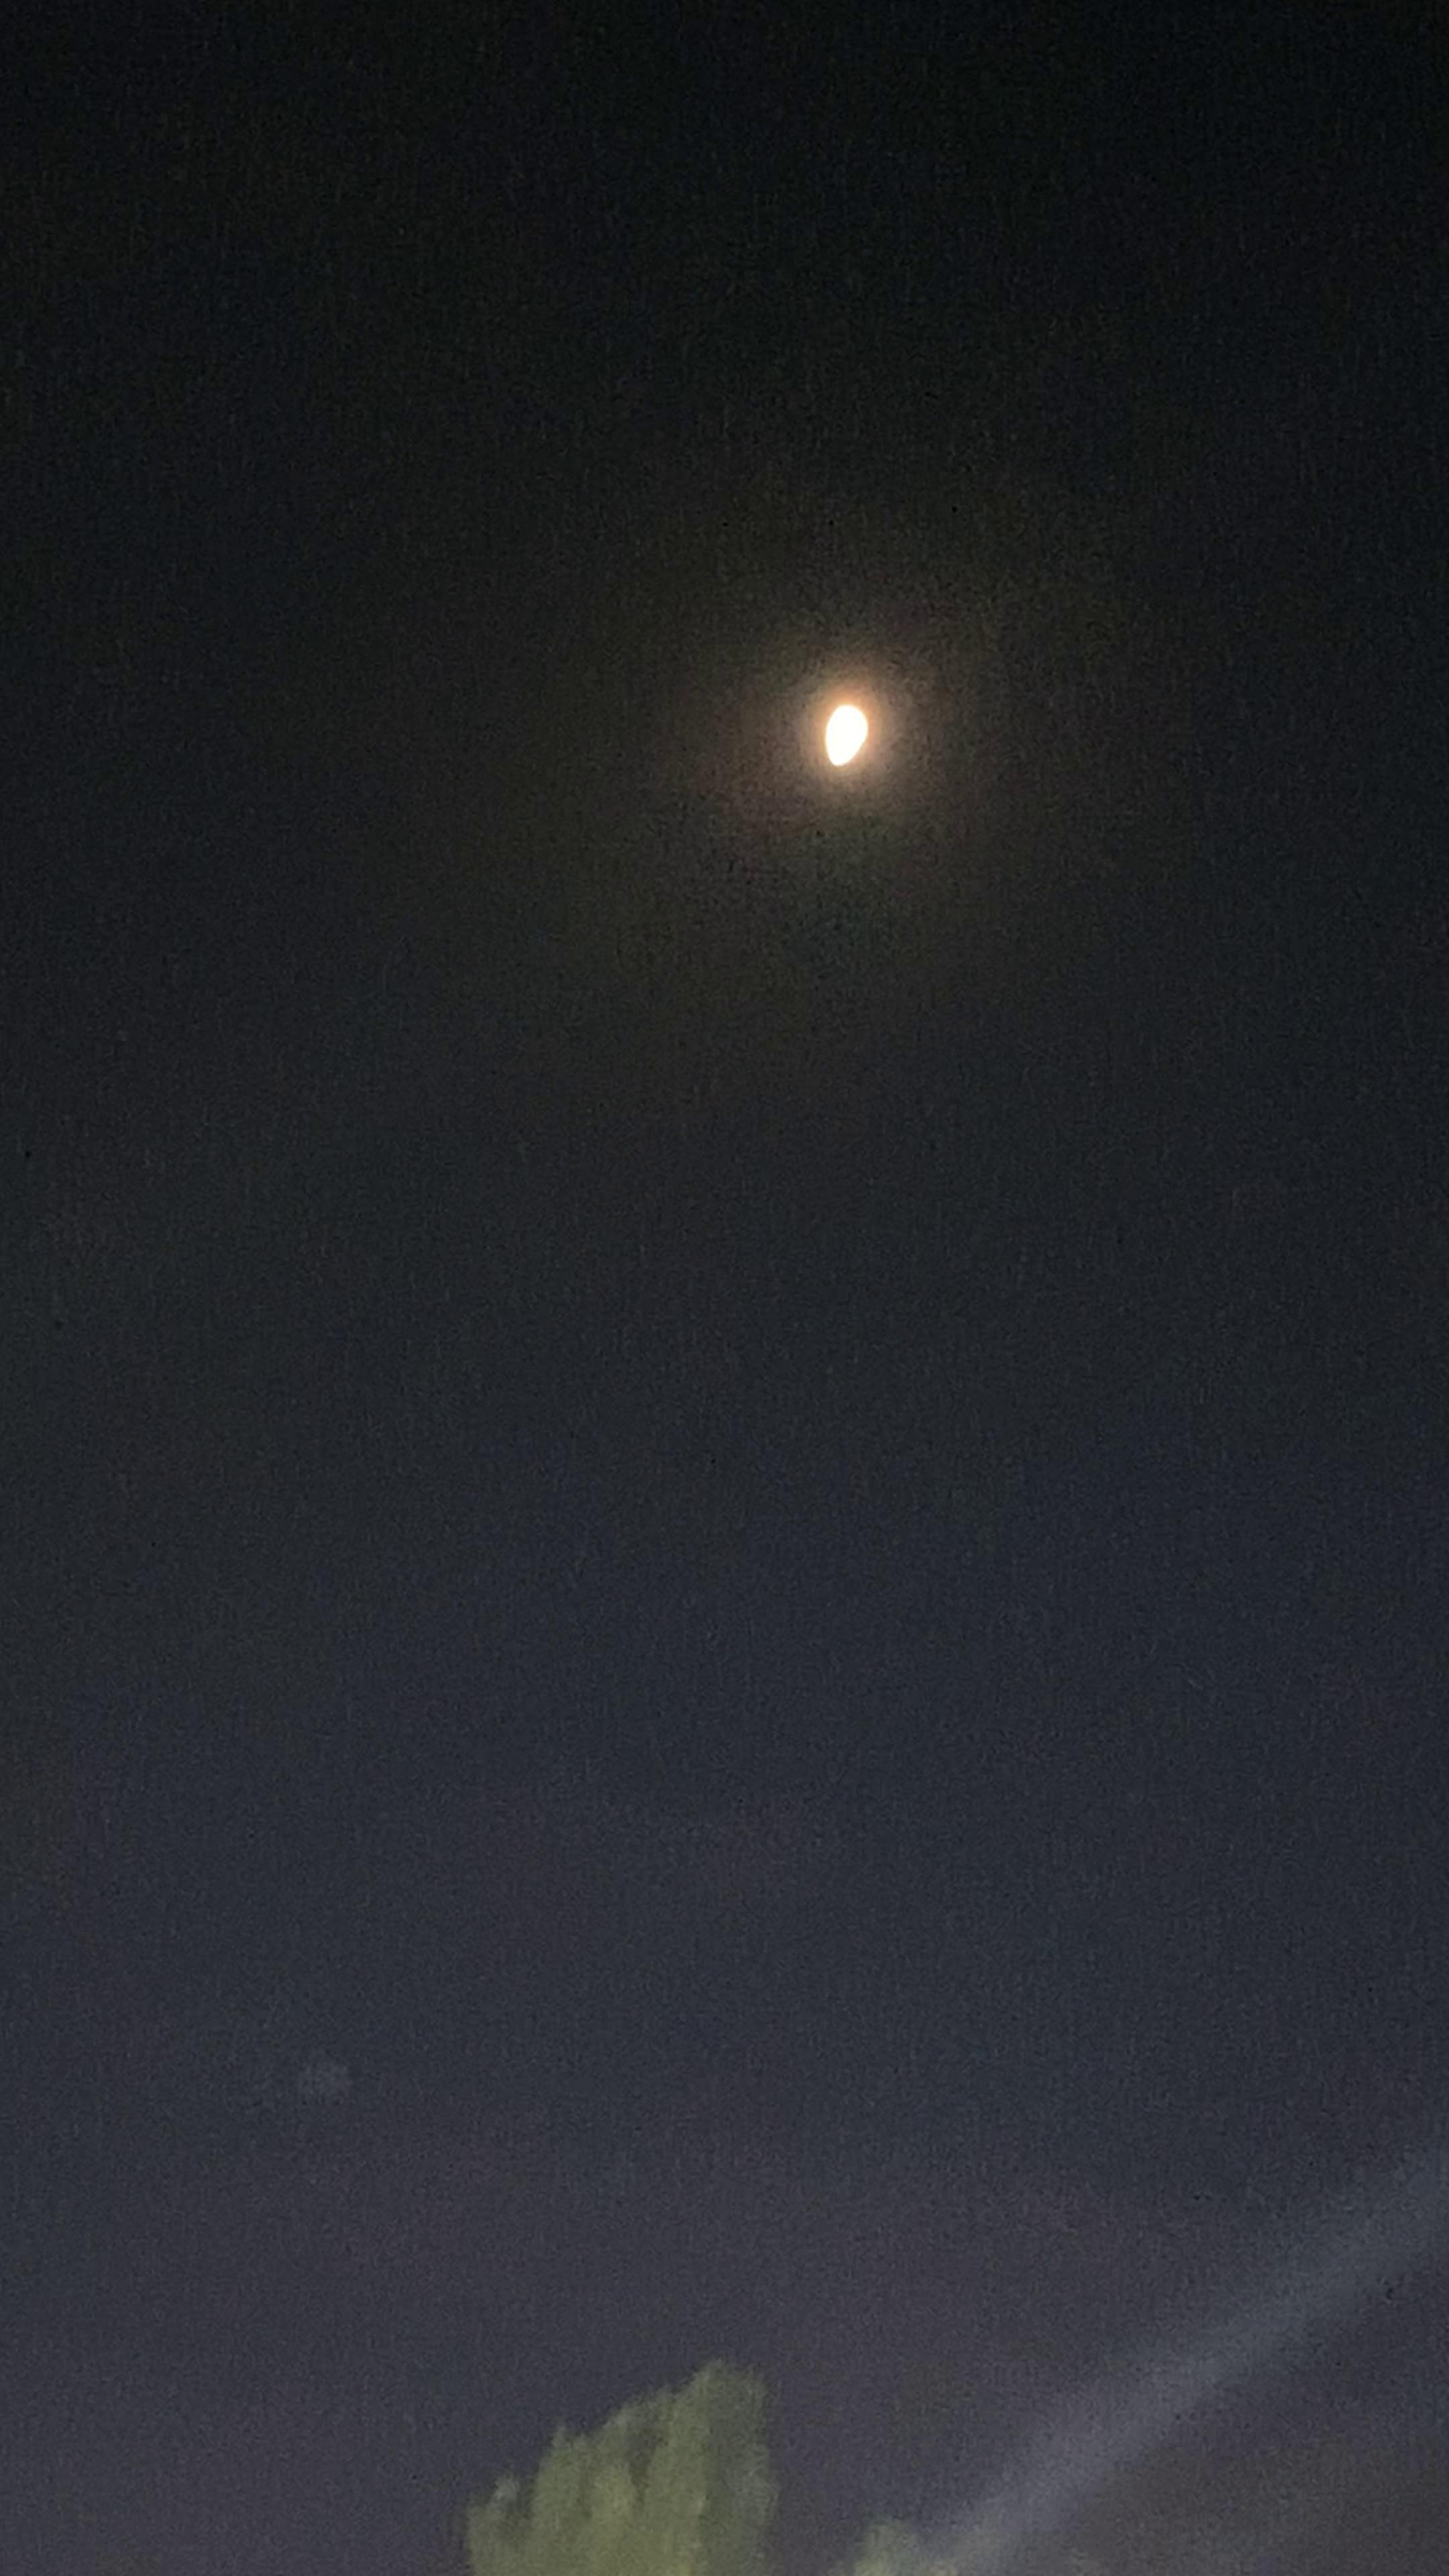moon: (796, 660, 915, 789)
